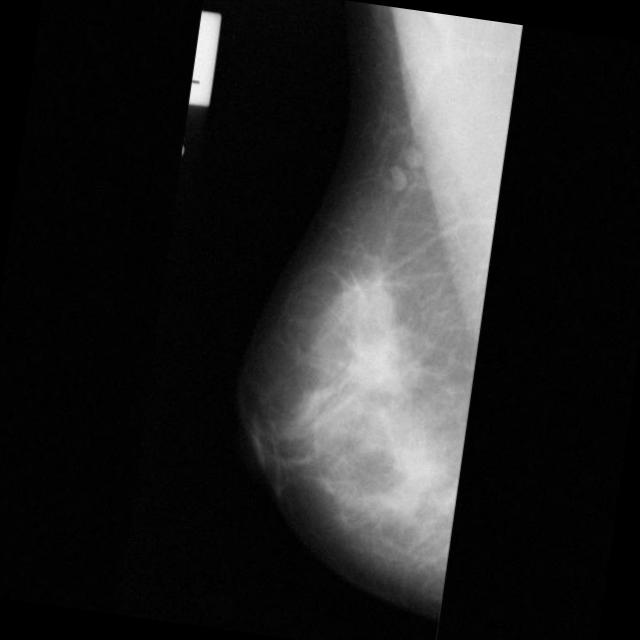ASYM: (349, 334, 402, 387)
